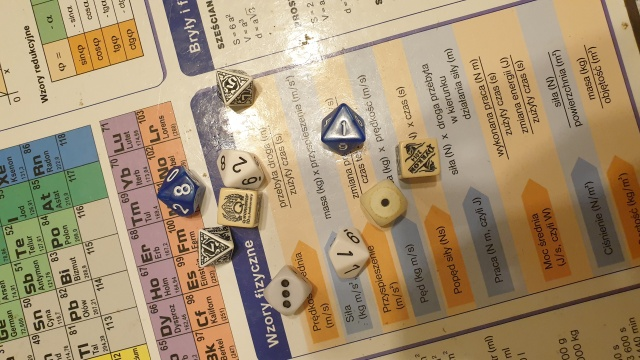d10-1: (320, 100, 367, 158), (326, 226, 373, 283)
d10-2: (212, 147, 269, 195)
d10-8: (155, 164, 208, 220)
d6-1: (360, 177, 408, 226)
d6-3: (260, 262, 315, 320)
d6p-1: (392, 139, 443, 180)
d6p-6: (214, 188, 260, 230)
d8p-5: (211, 62, 256, 111)
d8p-7: (196, 223, 236, 269)
